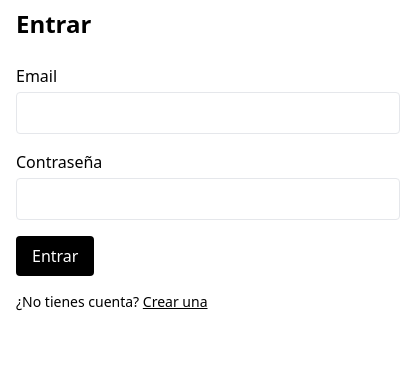
Login page › shows validation errors on empty submit
The width and height of the screenshot is (417, 368).
What coordinates should you click on to do the following:
click the button "Entrar"
I would click on:
 (55, 256)
Its box is [16,236,94,276].
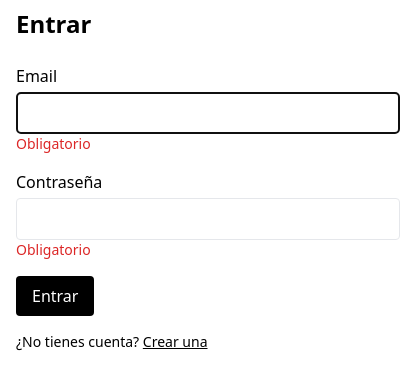
expect the text "Obligatorio" below "Email" is shown: met, box [16,134,91,153]
